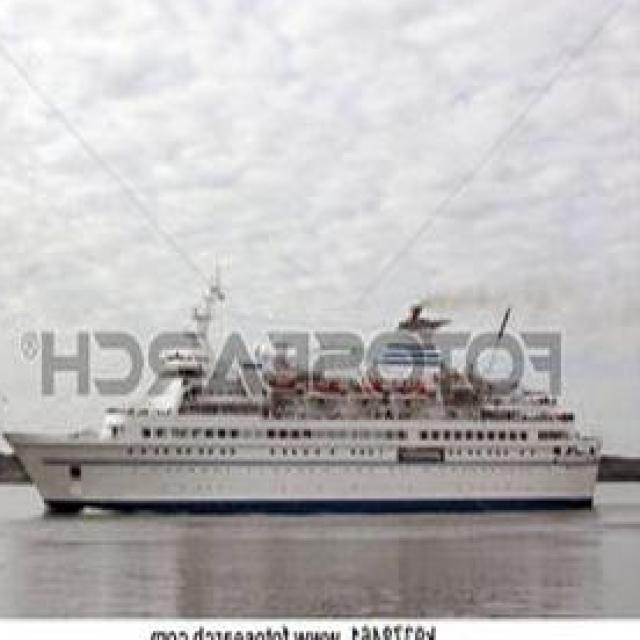passenger ship: (7, 323, 599, 519)
